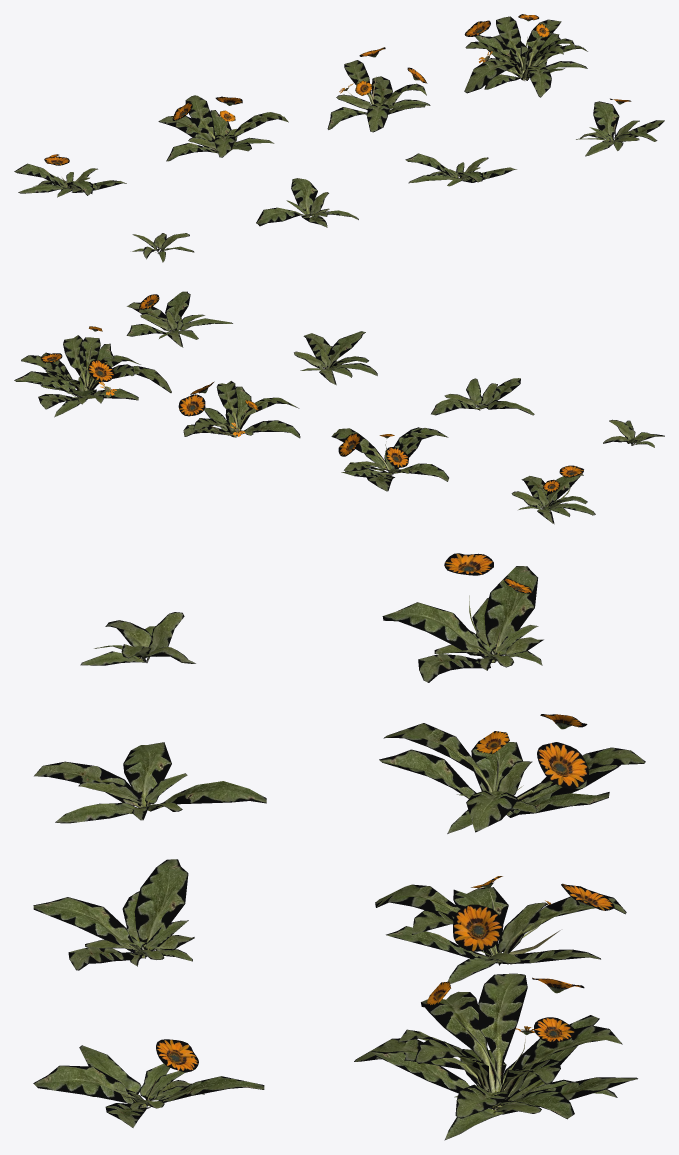
The model's file is flower_gazania.glb.
3 views of the same model, one above another, from view 1: azimuth 30°, elevation 25°; view 2: azimuth 150°, elevation 25°; view 3: azimuth 270°, elevation 25° (orthographic). The views are drawn at different scales.
Visible parts, largest first — view 1: flower_gazania_h_LOD0, flower_gazania_f_LOD0, flower_gazania_g_LOD0, flower_gazania_d_LOD0, flower_gazania_b_LOD0, flower_gazania_e_LOD0, flower_gazania_c_LOD0, flower_gazania_a_LOD0; view 2: flower_gazania_h_LOD0, flower_gazania_g_LOD0, flower_gazania_f_LOD0, flower_gazania_d_LOD0, flower_gazania_e_LOD0, flower_gazania_c_LOD0, flower_gazania_b_LOD0, flower_gazania_a_LOD0; view 3: flower_gazania_h_LOD0, flower_gazania_f_LOD0, flower_gazania_g_LOD0, flower_gazania_e_LOD0, flower_gazania_c_LOD0, flower_gazania_d_LOD0, flower_gazania_b_LOD0, flower_gazania_a_LOD0.
Part boxes in pixels (<box>): flower_gazania_h_LOD0: <box>464,14,587,97</box>; flower_gazania_f_LOD0: <box>158,95,288,161</box>; flower_gazania_g_LOD0: <box>327,47,430,132</box>; flower_gazania_d_LOD0: <box>576,98,664,156</box>; flower_gazania_b_LOD0: <box>256,178,358,227</box>; flower_gazania_e_LOD0: <box>14,154,126,197</box>; flower_gazania_c_LOD0: <box>405,153,516,186</box>; flower_gazania_a_LOD0: <box>132,233,194,262</box>; flower_gazania_h_LOD0: <box>14,326,171,417</box>; flower_gazania_g_LOD0: <box>178,381,300,438</box>; flower_gazania_f_LOD0: <box>331,427,448,491</box>; flower_gazania_d_LOD0: <box>126,291,232,347</box>; flower_gazania_e_LOD0: <box>511,465,595,524</box>; flower_gazania_c_LOD0: <box>294,331,377,385</box>; flower_gazania_b_LOD0: <box>431,378,534,415</box>; flower_gazania_a_LOD0: <box>603,419,664,447</box>; flower_gazania_h_LOD0: <box>354,973,637,1140</box>; flower_gazania_f_LOD0: <box>379,714,645,833</box>; flower_gazania_g_LOD0: <box>375,876,626,983</box>; flower_gazania_e_LOD0: <box>382,553,543,682</box>; flower_gazania_c_LOD0: <box>33,859,194,970</box>; flower_gazania_d_LOD0: <box>33,1039,264,1127</box>; flower_gazania_b_LOD0: <box>34,742,266,823</box>; flower_gazania_a_LOD0: <box>80,612,195,665</box>.
Bounding box in the file's own units: 1.48 × 0.1652 × 0.7009.
1 material, 1 textured.
